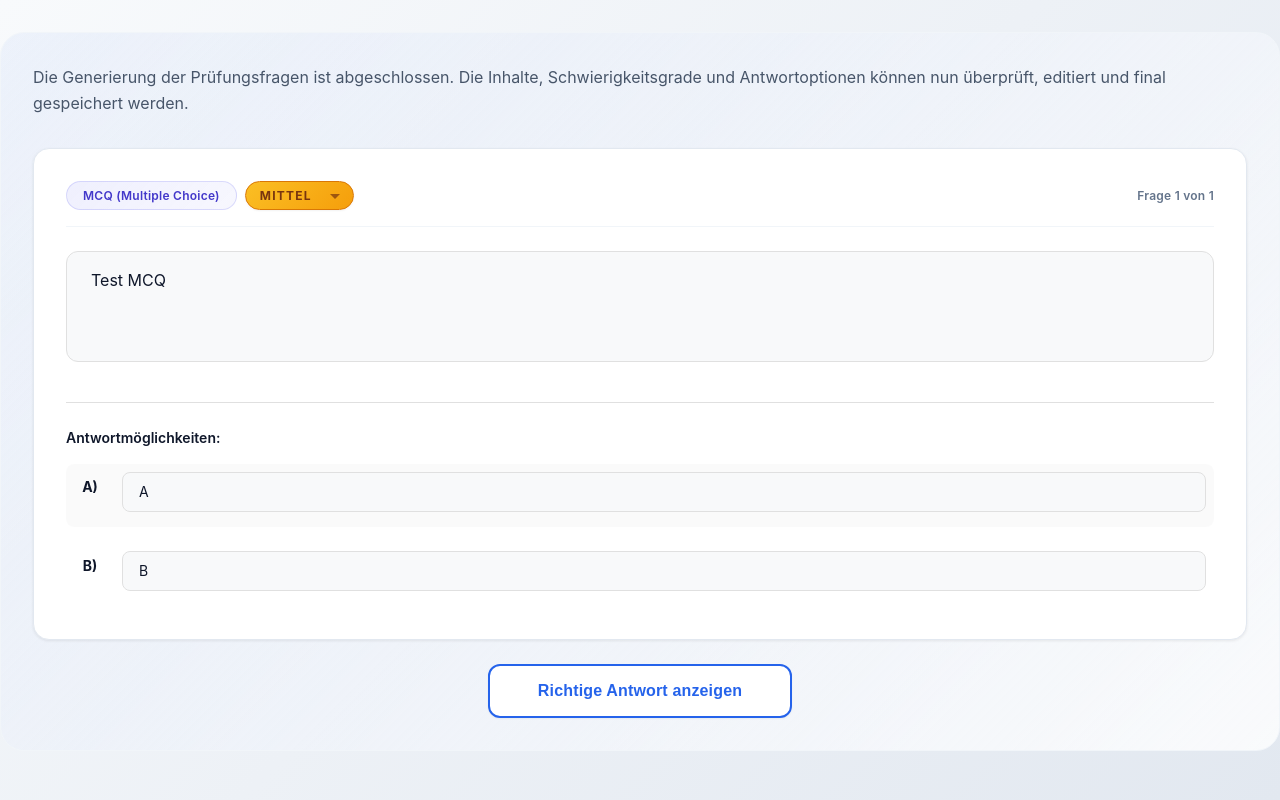
Test case: QuestionsList Component › sollte den Text des Buttons nach Klick ändern
Click the button "Richtige Antwort anzeigen": (640, 691) [488,664,792,718]
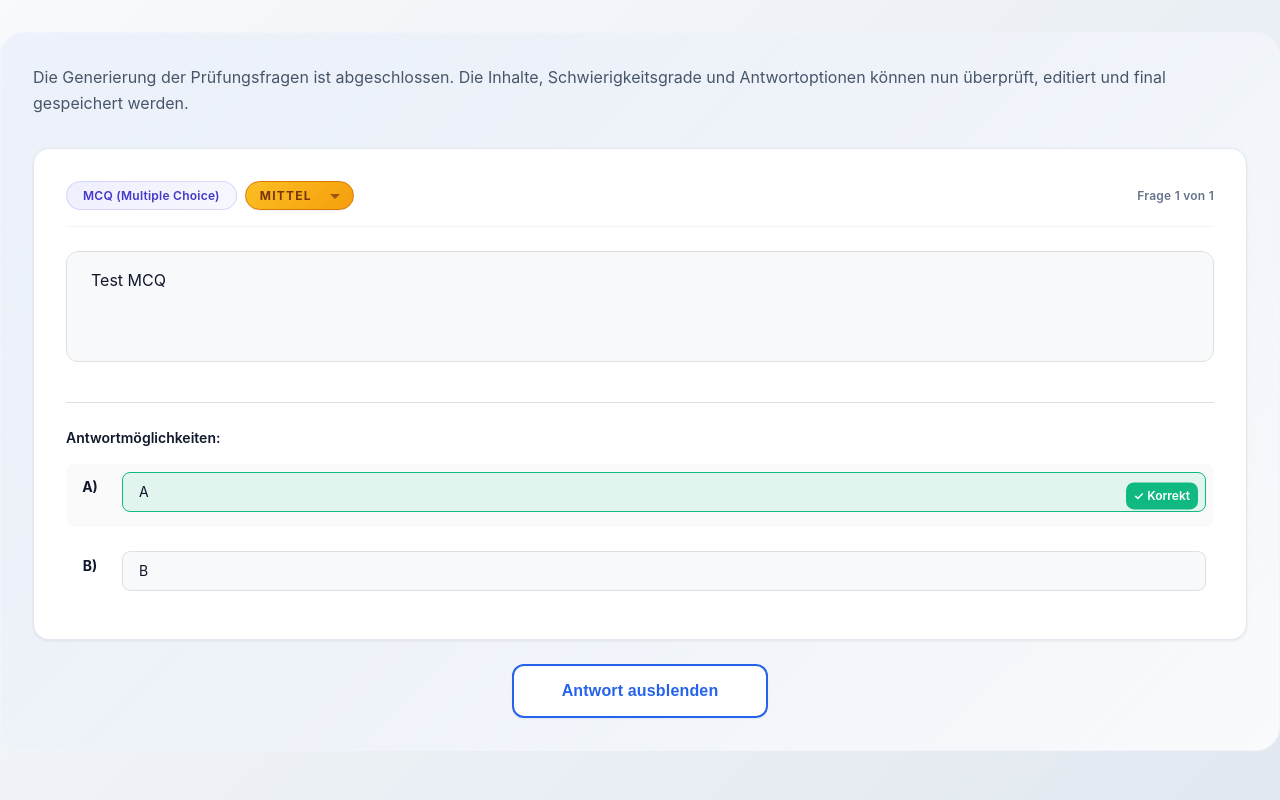
Check: the button "Antwort ausblenden" is shown, box [512,664,768,718]
